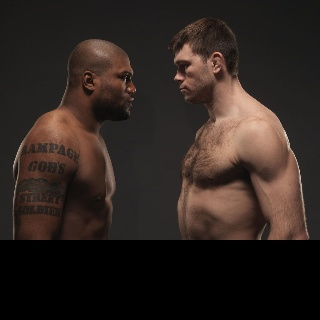without_mask: (95, 56, 135, 119), (174, 42, 214, 102)
